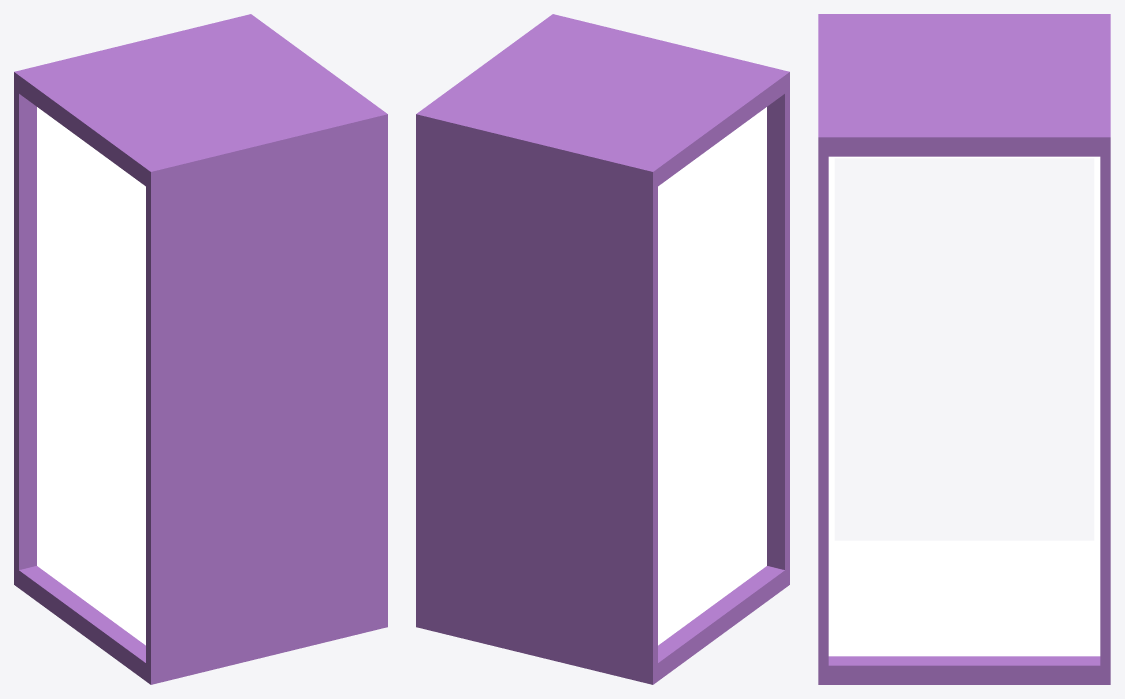
3 views of the same model, side by side, from view 1: azimuth 30°, elevation 25°; view 2: azimuth 150°, elevation 25°; view 3: azimuth 270°, elevation 25° (orthographic). The views are drawn at different scales.
Visible parts, largest first — view 1: Cube, Cube.001; view 2: Cube, Cube.001; view 3: Cube, Cube.001.
Part boxes in pixels (x1,y1,x2,y2): Cube: (14,14,387,684); Cube.001: (37,107,145,645); Cube: (416,14,789,684); Cube.001: (658,107,766,645); Cube: (818,14,1110,684); Cube.001: (828,156,1100,656).
Bounding box in the file's own units: 2.41 × 4.98 × 2.41.
